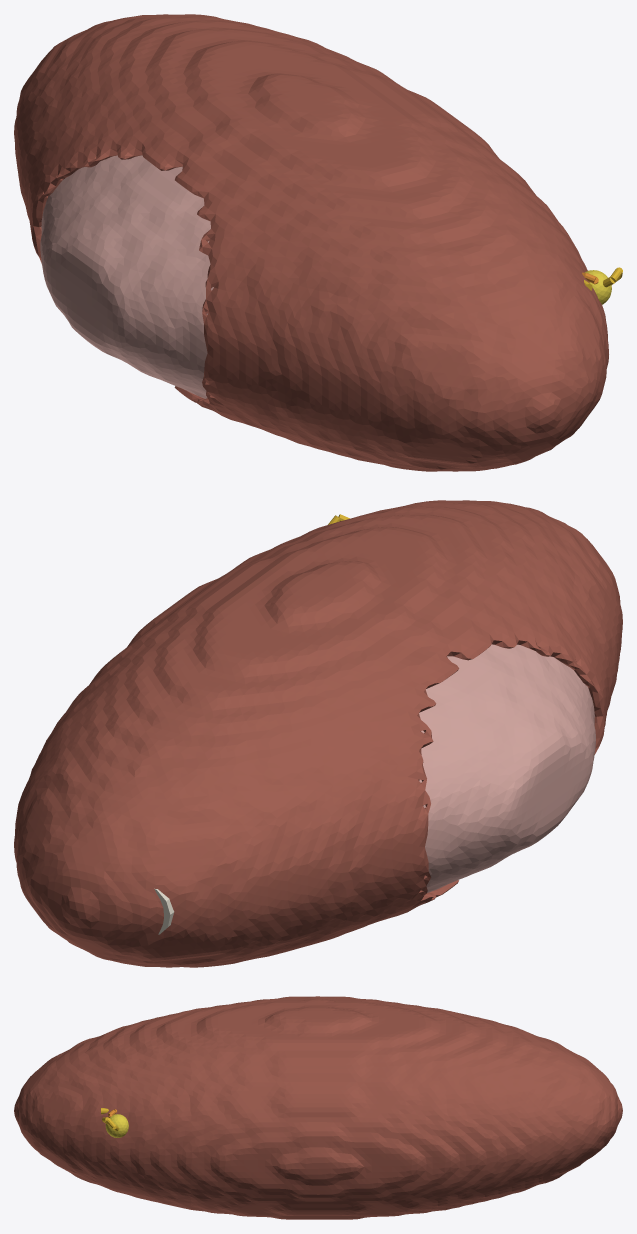
File: combined_anatomical_kidney.glb
3 views of the same model, one above another, from view 1: azimuth 30°, elevation 25°; view 2: azimuth 150°, elevation 25°; view 3: azimuth 270°, elevation 25° (orthographic). The views are drawn at different scales.
Visible parts, largest first — view 1: geometry_1, geometry_0, geometry_7; view 2: geometry_1, geometry_0; view 3: geometry_1, geometry_7.
Part boxes in pixels (x1,y1,x2,y2): geometry_1: (14,14,608,471); geometry_0: (40,155,213,398); geometry_7: (582,267,622,304); geometry_1: (14,500,622,967); geometry_0: (419,644,595,892); geometry_1: (14,996,622,1219); geometry_7: (101,1108,128,1137).
Bounding box in the file's own units: 46.09 × 31.06 × 90.96.
